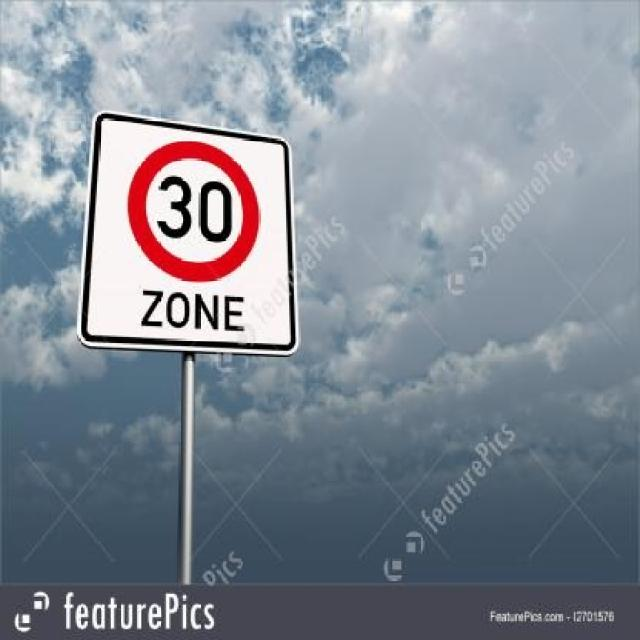forb_speed_over_30: (126, 139, 263, 281)
